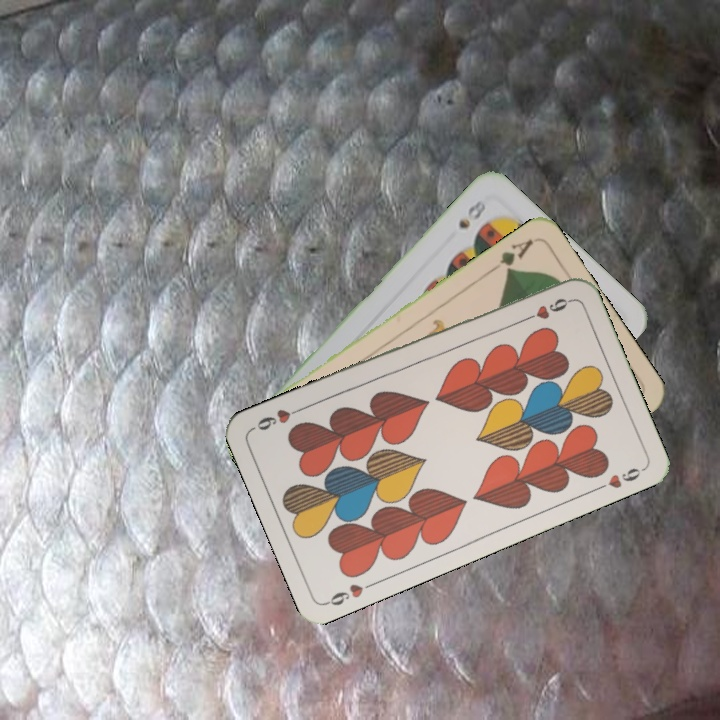GA: (486, 235, 536, 277)
H9: (518, 294, 574, 325), (322, 578, 378, 608)
S8: (454, 195, 488, 232)
